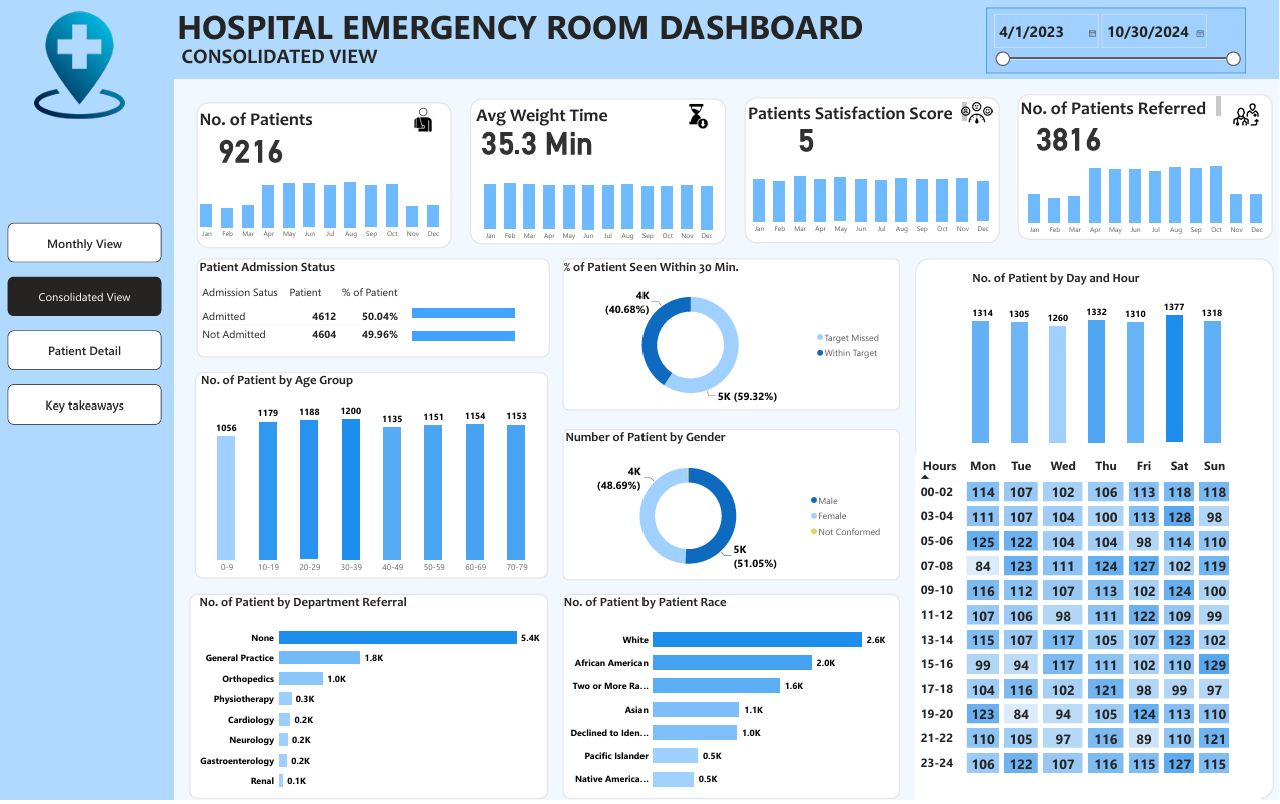

Layout of this report page (visuals, bound fields, positions):
{"tool":"powerbi","page":{"name":"Consolidated View","canvas":[2300,1424],"ordinal":1},"visuals":[{"type":"shape","box":[0,0,310,1425.6],"z":0},{"type":"shape","box":[309.6,0,1990.4,140],"z":1000},{"type":"textbox","box":[310,0,1243.3,96.7],"z":2000},{"type":"textbox","box":[310,70,383.3,76.7],"z":3000},{"type":"shape","box":[350,181.7,455,260],"z":4000},{"type":"advanceCardE03760C5AB684758B56AA29F9E6C257B","fields":{"mainMeasure":["Hospital ER_Data.No. of Patient"]},"box":[340,230,213.3,80],"z":5000},{"type":"slicer","fields":{"Values":["Date Table.Date"]},"box":[1756.7,13.3,463.3,116.7],"z":7000},{"type":"textbox","box":[350,186.7,246.7,50],"z":8000},{"type":"columnChart","fields":{"Category":["Date Table.Month Name"],"Y":["Hospital ER_Data.No. of Patient"]},"box":[338.3,310,465,125],"z":9000},{"type":"shape","box":[837.8,175,455,260],"z":11000},{"type":"advanceCardE03760C5AB684758B56AA29F9E6C257B","fields":{"mainMeasure":["Hospital ER_Data.Avg Weight Time"]},"box":[836.7,210,240,90],"z":12000},{"type":"textbox","box":[836.7,180,263.3,50],"z":13000},{"type":"columnChart","fields":{"Category":["Date Table.Month Name"],"Y":["Avg(Hospital ER_Data.Patient Waittime)"]},"box":[845,313.3,443.3,125],"z":14000},{"type":"shape","box":[1325.6,173.3,455,260],"z":15000},{"type":"advanceCardE03760C5AB684758B56AA29F9E6C257B","fields":{"mainMeasure":["Hospital ER_Data.Satisfaction Score"]},"box":[1326.7,210,216.7,80],"z":16000},{"type":"textbox","box":[1326.7,176.7,400,43.3],"z":17000},{"type":"columnChart","fields":{"Category":["Date Table.Month Name"],"Y":["Hospital ER_Data.Satisfaction Score"]},"box":[1321.7,300,460,125],"z":18000},{"type":"shape","box":[1813.3,166.7,455,260],"z":19000},{"type":"advanceCardE03760C5AB684758B56AA29F9E6C257B","fields":{"mainMeasure":["Hospital ER_Data.No. of patients Referred"]},"box":[1796.7,208.3,213.3,80],"z":20000},{"type":"textbox","box":[1813.3,166.7,366.7,46.7],"z":21000},{"type":"columnChart","fields":{"Category":["Date Table.Month Name"],"Y":["Hospital ER_Data.No. of patients Referred"]},"box":[1813.3,283.3,456.7,143.3],"z":22000},{"type":"shape","box":[350,460,630,176.7],"z":23000},{"type":"shape","box":[346.7,663.3,630,366.7],"z":24000},{"type":"pivotTable","title":"Patient Admission Status","fields":{"Rows":["Hospital ER_Data.Admission Satus"],"Values":["Hospital ER_Data.No. of Patient1","Hospital ER_Data.No. of Patient"]},"box":[350,460,630,176.7],"z":25000},{"type":"barChart","fields":{"Category":["Hospital ER_Data.Admission Satus"],"Y":["Hospital ER_Data.No. of Patient"]},"box":[730,516.7,247.8,118.9],"z":26000},{"type":"shape","box":[1003.3,1056.7,600,366.7],"z":27000},{"type":"shape","box":[336.7,1056.7,640,366.7],"z":28000},{"type":"shape","box":[1003.3,460,600,270],"z":29000},{"type":"clusteredColumnChart","fields":{"Category":["Hospital ER_Data.Age Group"],"Y":["Hospital ER_Data.No. of Patient"]},"box":[353.3,663.3,620,366.7],"z":30000},{"type":"clusteredBarChart","fields":{"Category":["Hospital ER_Data.Department Referral"],"Y":["Hospital ER_Data.No. of Patient"]},"box":[350,1056.7,623.3,366.7],"z":31000},{"type":"donutChart","title":"% of Patient Seen Within 30 Min.","fields":{"Category":["Hospital ER_Data.Waittime Sataus"],"Y":["Hospital ER_Data.No. of Patient"]},"box":[1000,460,580,270],"z":32000},{"type":"shape","box":[1630,460,640,963.3],"z":33000},{"type":"shape","box":[1003.3,763.3,600,270],"z":34000},{"type":"donutChart","title":"Number of Patient by Gender","fields":{"Category":["Hospital ER_Data.Patient Gender"],"Y":["Hospital ER_Data.No. of Patient"]},"box":[1003.3,763.3,580,270],"z":35000},{"type":"clusteredBarChart","fields":{"Category":["Hospital ER_Data.Patient Race"],"Y":["Hospital ER_Data.No. of Patient"]},"box":[1000,1056.7,603.3,366.7],"z":36000},{"type":"pivotTable","fields":{"Columns":["Date Table.Day Name"],"Rows":["Hospital ER_Data.Waittime Interval"],"Values":["Hospital ER_Data.No. of Patient"]},"box":[1630,806.7,616.7,620],"z":37000},{"type":"columnChart","title":"No. of Patient by Day  and Hour","fields":{"Category":["Date Table.Day Name"],"Y":["Hospital ER_Data.No. of Patient"]},"box":[1726.7,480,456.7,313.3],"z":38000},{"type":"image","box":[11.7,20,258.3,191.7],"z":39000},{"type":"image","box":[716.2,190,75,46.2],"z":40000},{"type":"image","box":[1205,182.5,76.2,47.5],"z":41000},{"type":"image","box":[1711.7,168.3,56.7,63.3],"z":42000},{"type":"image","box":[2185,175,70,56.7],"z":43000},{"type":"pageNavigator","box":[13.3,396.7,273.3,360],"z":43001}]}

Visuals, with their boxes in screenshot pixels (x1, y1, x2, y2), scaled from the page's 2300x1424 canvas onto the 1280x804 screenshot:
shape: <box>0,0,173,803</box>
shape: <box>172,0,1279,79</box>
textbox: <box>173,0,864,55</box>
textbox: <box>173,40,386,83</box>
shape: <box>195,103,448,249</box>
advanceCardE03760C5AB684758B56AA29F9E6C257B - Hospital ER_Data.No. of Patient: <box>189,130,308,175</box>
slicer - Date Table.Date: <box>978,8,1235,73</box>
textbox: <box>195,105,332,134</box>
columnChart - Date Table.Month Name x Hospital ER_Data.No. of Patient: <box>188,175,447,246</box>
shape: <box>466,99,719,246</box>
advanceCardE03760C5AB684758B56AA29F9E6C257B - Hospital ER_Data.Avg Weight Time: <box>466,119,599,169</box>
textbox: <box>466,102,612,130</box>
columnChart - Date Table.Month Name x Avg(Hospital ER_Data.Patient Waittime): <box>470,177,717,247</box>
shape: <box>738,98,991,245</box>
advanceCardE03760C5AB684758B56AA29F9E6C257B - Hospital ER_Data.Satisfaction Score: <box>738,119,859,164</box>
textbox: <box>738,100,961,124</box>
columnChart - Date Table.Month Name x Hospital ER_Data.Satisfaction Score: <box>736,169,992,240</box>
shape: <box>1009,94,1262,241</box>
advanceCardE03760C5AB684758B56AA29F9E6C257B - Hospital ER_Data.No. of patients Referred: <box>1000,118,1119,163</box>
textbox: <box>1009,94,1213,120</box>
columnChart - Date Table.Month Name x Hospital ER_Data.No. of patients Referred: <box>1009,160,1263,241</box>
shape: <box>195,260,545,359</box>
shape: <box>193,375,544,582</box>
"Patient Admission Status" pivotTable: <box>195,260,545,359</box>
barChart - Hospital ER_Data.Admission Satus x Hospital ER_Data.No. of Patient: <box>406,292,544,359</box>
shape: <box>558,597,892,803</box>
shape: <box>187,597,544,803</box>
shape: <box>558,260,892,412</box>
clusteredColumnChart - Hospital ER_Data.Age Group x Hospital ER_Data.No. of Patient: <box>197,375,542,582</box>
clusteredBarChart - Hospital ER_Data.Department Referral x Hospital ER_Data.No. of Patient: <box>195,597,542,803</box>
"% of Patient Seen Within 30 Min." donutChart: <box>557,260,879,412</box>
shape: <box>907,260,1263,803</box>
shape: <box>558,431,892,583</box>
"Number of Patient by Gender" donutChart: <box>558,431,881,583</box>
clusteredBarChart - Hospital ER_Data.Patient Race x Hospital ER_Data.No. of Patient: <box>557,597,892,803</box>
pivotTable - Date Table.Day Name x Hospital ER_Data.Waittime Interval: <box>907,455,1250,803</box>
"No. of Patient by Day  and Hour" columnChart: <box>961,271,1215,448</box>
image: <box>7,11,150,120</box>
image: <box>399,107,440,133</box>
image: <box>671,103,713,130</box>
image: <box>953,95,984,131</box>
image: <box>1216,99,1255,131</box>
pageNavigator: <box>7,224,159,427</box>
